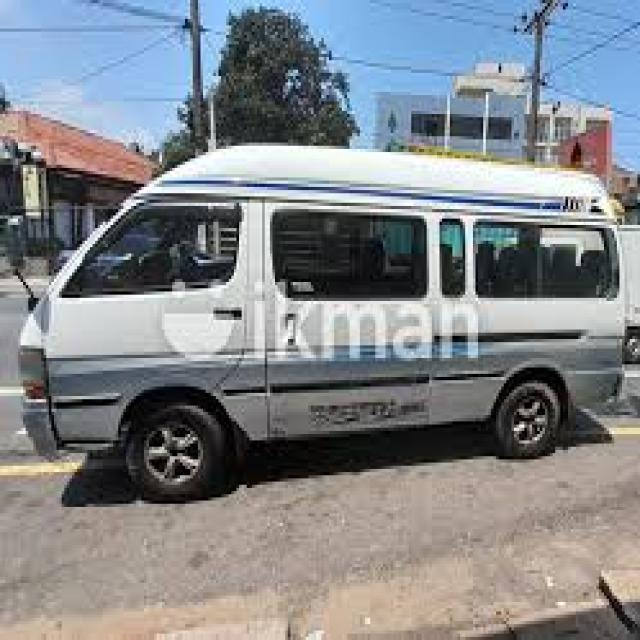van: (21, 146, 637, 501)
